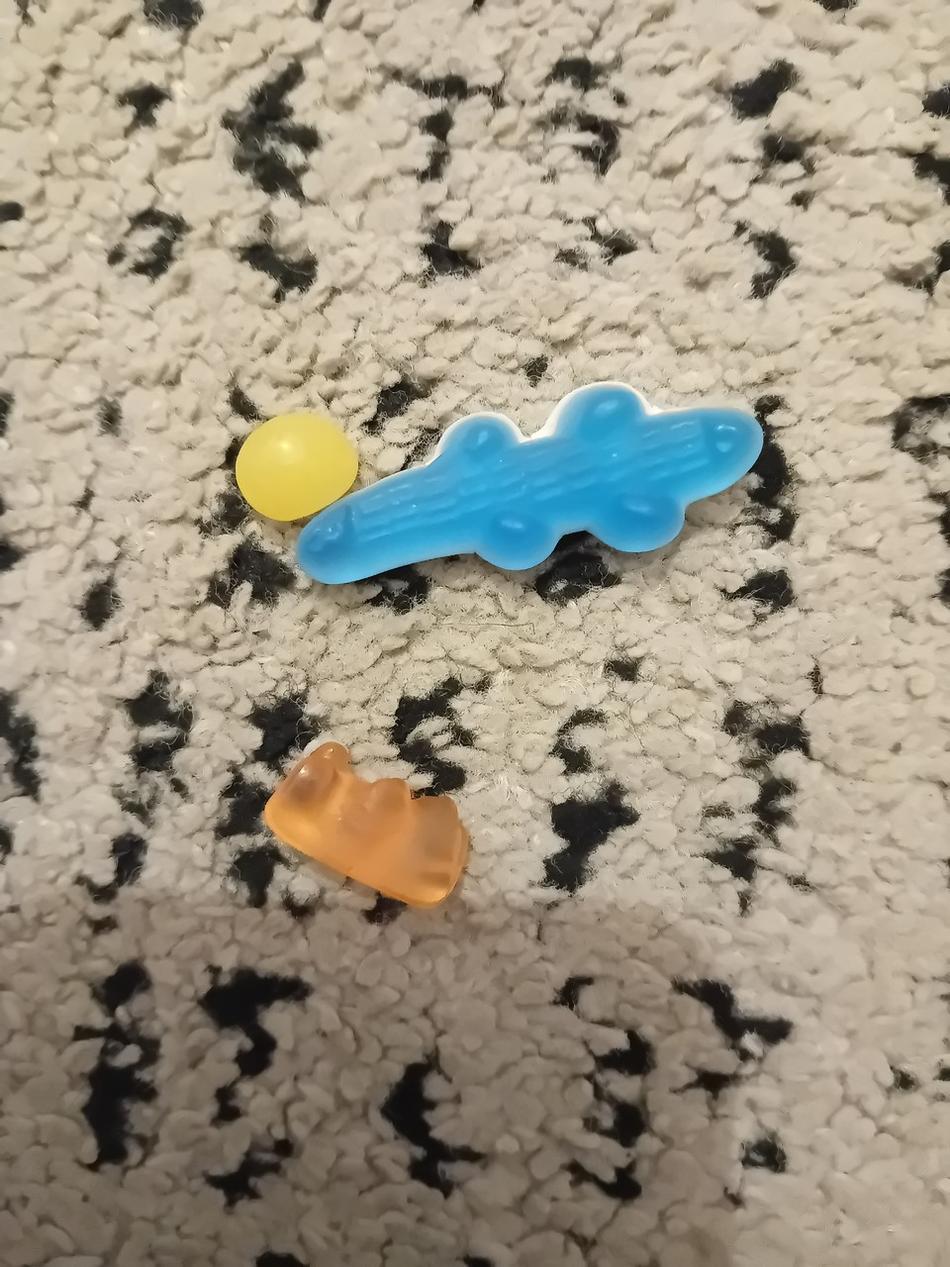crocodile_bleu: (290, 374, 768, 592)
dragibus_jaune: (229, 403, 363, 526)
ourson_orangeClair: (243, 736, 486, 912)
